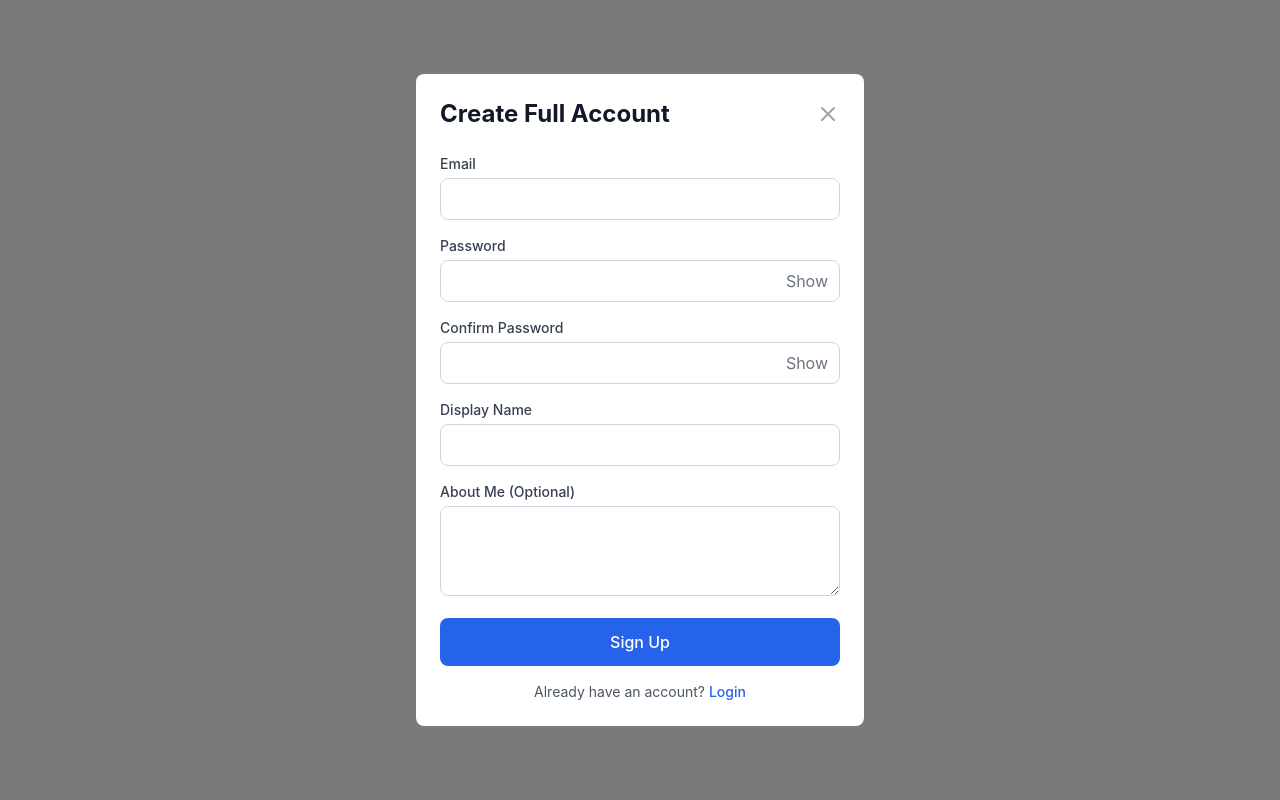
Test case: SignupModal - Submission Integration › Loading State › should disable submit button during loading
The width and height of the screenshot is (1280, 800).
Note: Fill form
Type "test@example.com" into the field labelled "Email" at (640, 199), box top-left (440, 178), bottom-right (840, 220)
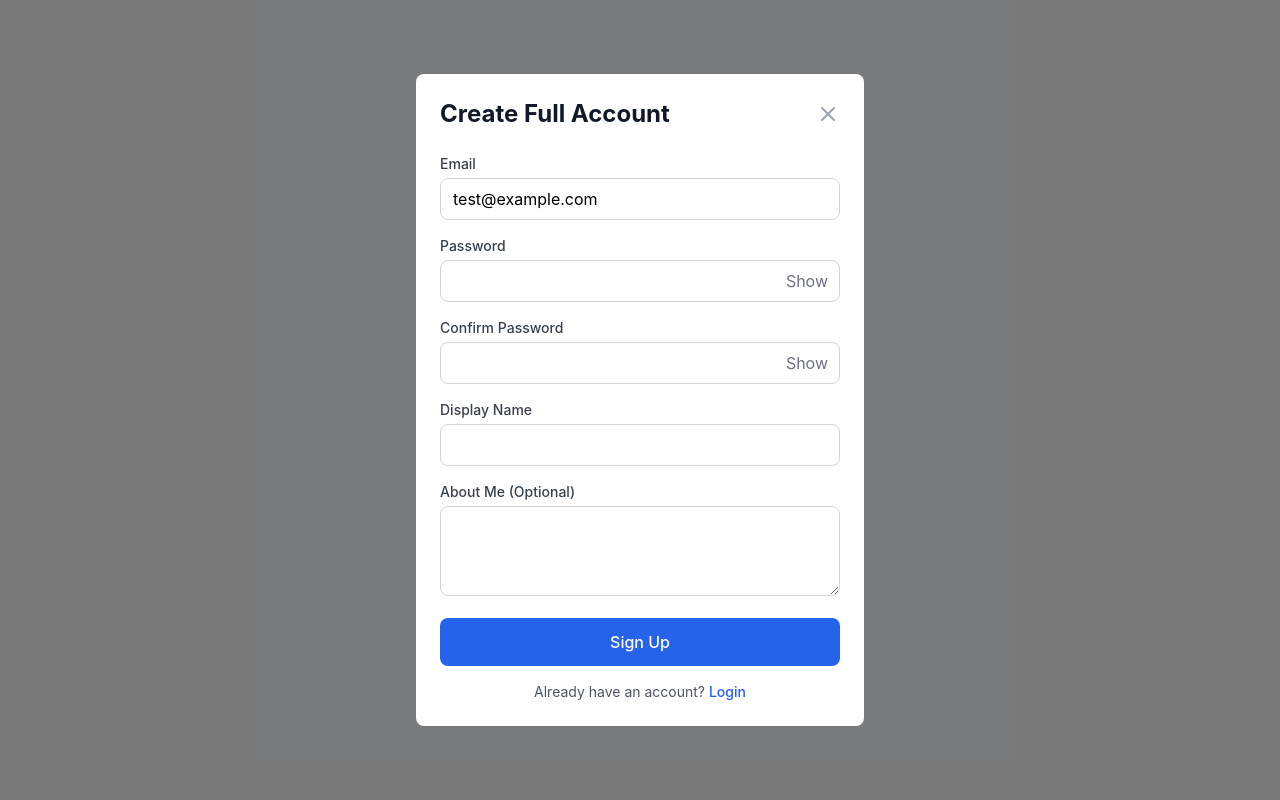
Type "Password123!" into the password field labelled "Password" at (640, 281), box top-left (440, 260), bottom-right (840, 302)
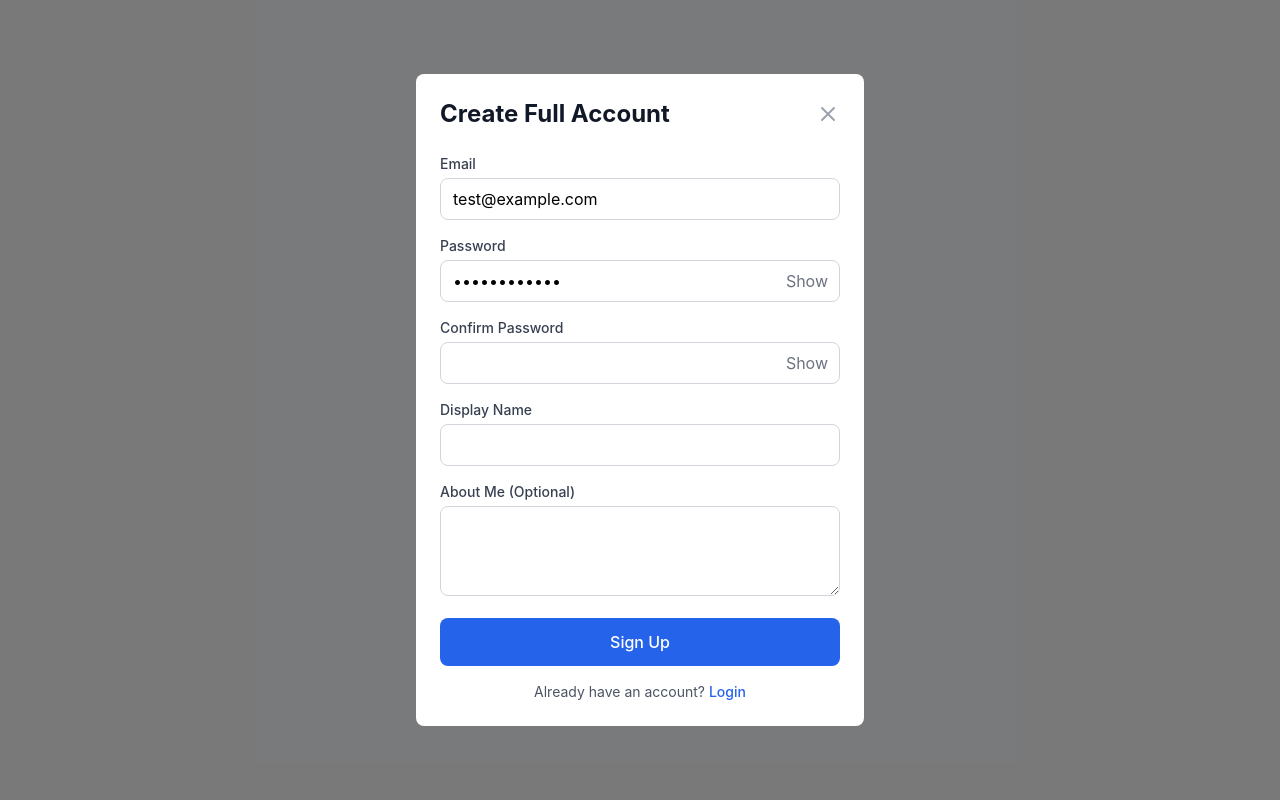
Type "Password123!" into the password field labelled "Confirm Password" at (640, 363), box top-left (440, 342), bottom-right (840, 384)
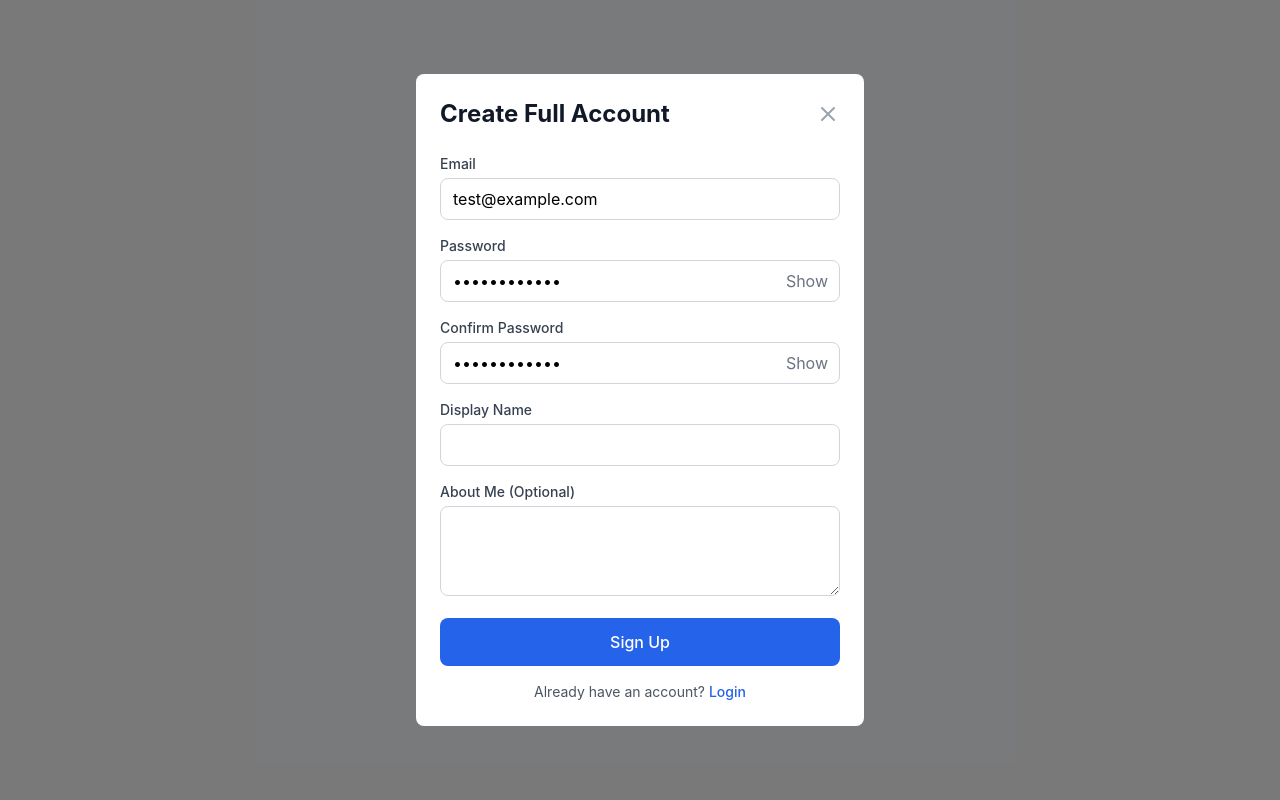
Type "Test User" into the field labelled "Display Name" at (640, 445), box top-left (440, 424), bottom-right (840, 466)
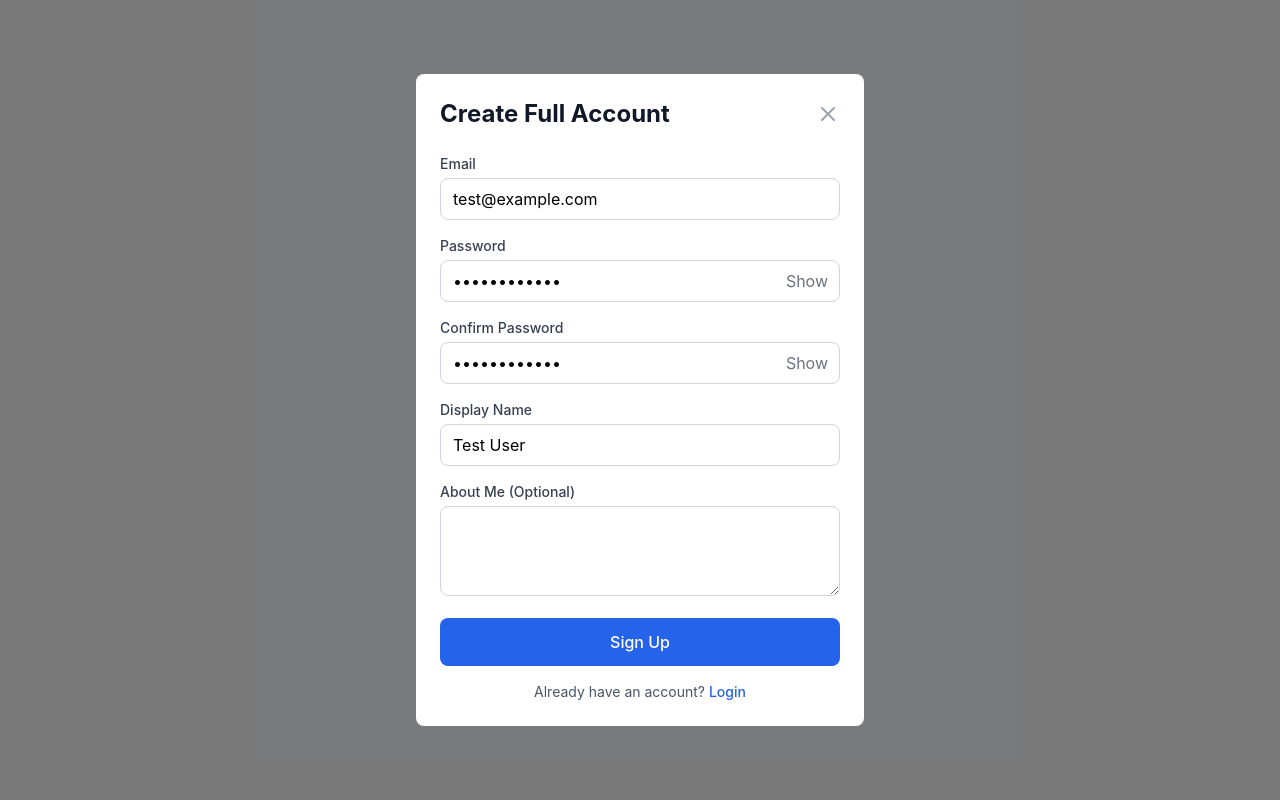
Click the button "Sign Up" at (640, 642), box top-left (440, 618), bottom-right (840, 666)
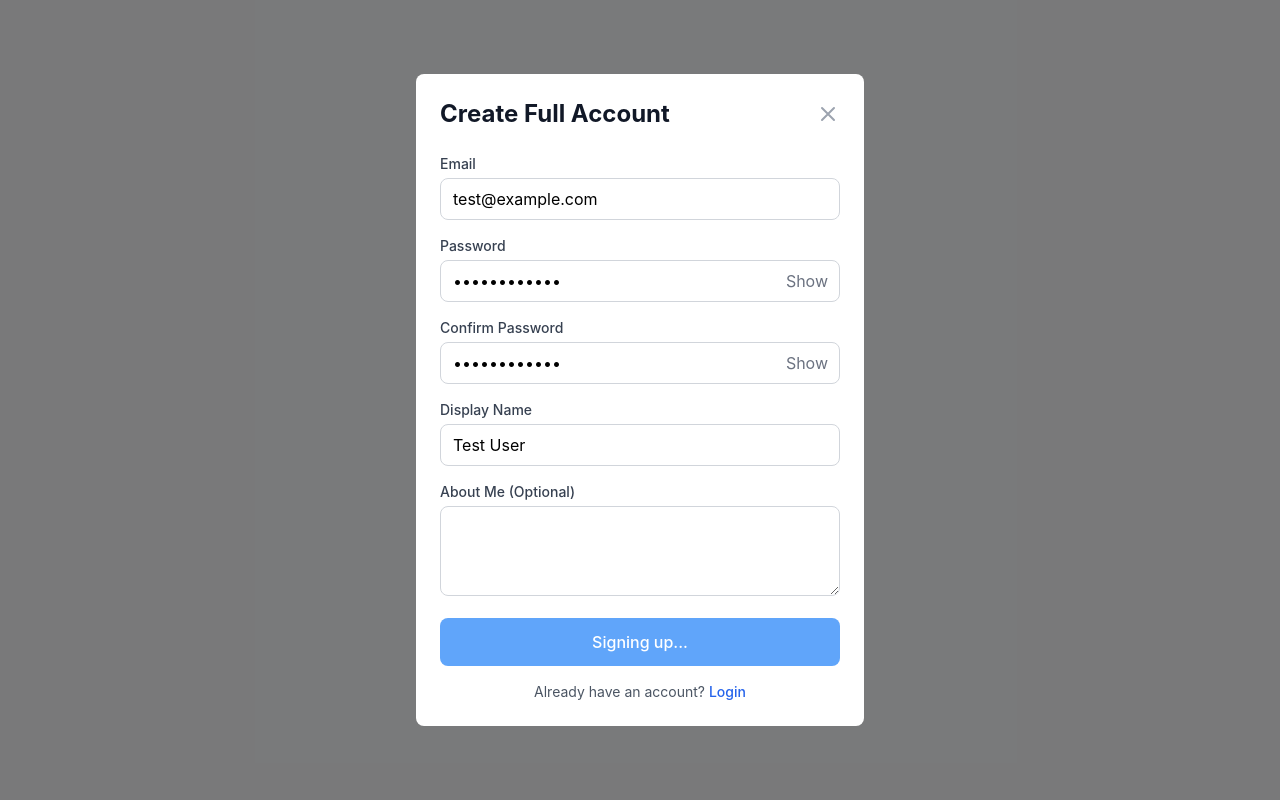
expect the button named "sign up" is disabled: met, box top-left (440, 618), bottom-right (840, 666)
